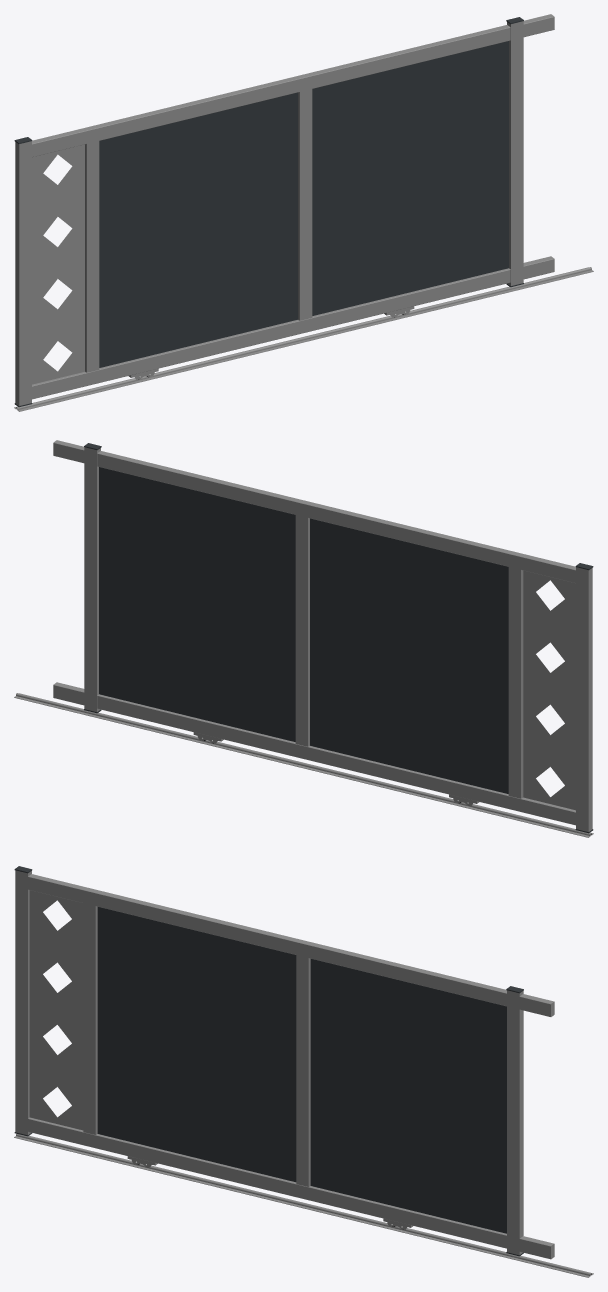
3 views of the same model, one above another, from view 1: azimuth 30°, elevation 25°; view 2: azimuth 150°, elevation 25°; view 3: azimuth 330°, elevation 25° (orthographic).
Parts seen in each view (by area): view 1: Chapa Alucobond036, Rectangle067, Shape107412585, Shape107412584, Pilar, Pilar001, Rail, Shape107412753, Shape107412811; view 2: Chapa Alucobond036, Rectangle067, Shape107412585, Shape107412584, Pilar, Pilar001, Shape107412753, Rail, Shape107412811; view 3: Chapa Alucobond036, Rectangle067, Shape107412585, Shape107412584, Pilar001, Pilar, Rail, Shape107412811, Shape107412753.
Boxes of the visible parts, box(x1,y1,x2,y2) form: Chapa Alucobond036: box(99, 41, 508, 367); Rectangle067: box(32, 144, 84, 384); Shape107412585: box(32, 14, 554, 157); Shape107412584: box(32, 256, 554, 399); Pilar: box(15, 141, 31, 405); Pilar001: box(507, 21, 523, 285); Rail: box(14, 267, 593, 411); Shape107412753: box(85, 140, 99, 372); Shape107412811: box(298, 88, 312, 320); Chapa Alucobond036: box(99, 467, 508, 793); Rectangle067: box(523, 570, 575, 810); Shape107412585: box(53, 440, 575, 583); Shape107412584: box(53, 682, 575, 825); Pilar: box(576, 567, 592, 831); Pilar001: box(84, 447, 100, 711); Shape107412753: box(508, 567, 523, 798); Rail: box(14, 693, 593, 837); Shape107412811: box(295, 515, 309, 746); Chapa Alucobond036: box(97, 907, 506, 1233); Rectangle067: box(29, 890, 83, 1130); Shape107412585: box(28, 874, 554, 1016); Shape107412584: box(28, 1117, 554, 1259); Pilar001: box(507, 990, 523, 1255); Pilar: box(15, 870, 31, 1135); Rail: box(14, 1133, 593, 1277); Shape107412811: box(296, 954, 310, 1186); Shape107412753: box(83, 902, 97, 1134).
Bounding box in the file's own units: 3600 × 1606 × 60.02.
8 materials, 4 textured.
